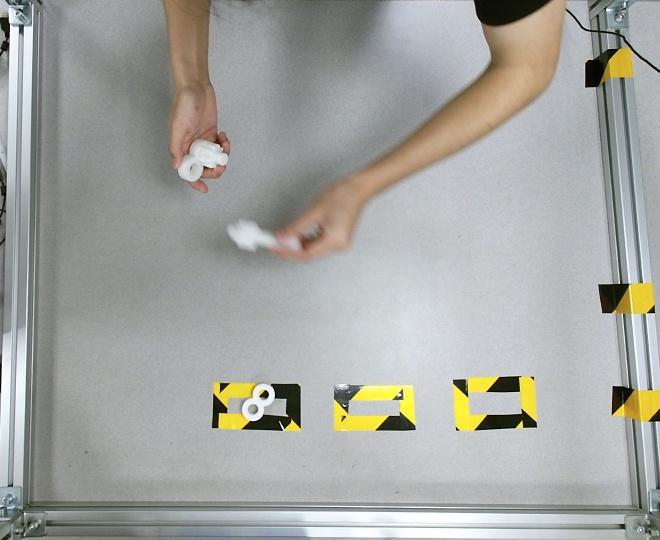stage_2: (176, 140, 228, 181)
